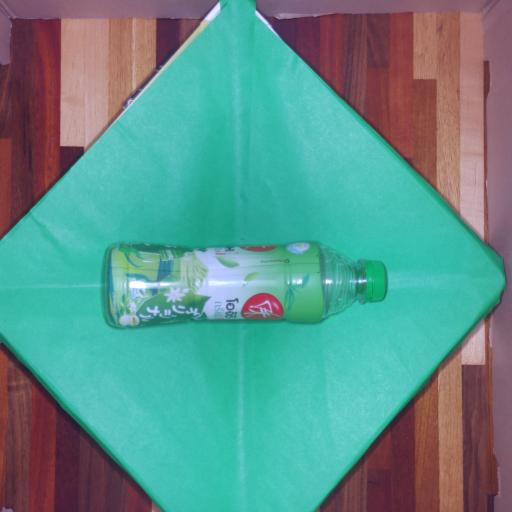bottle: (107, 243, 386, 326)
